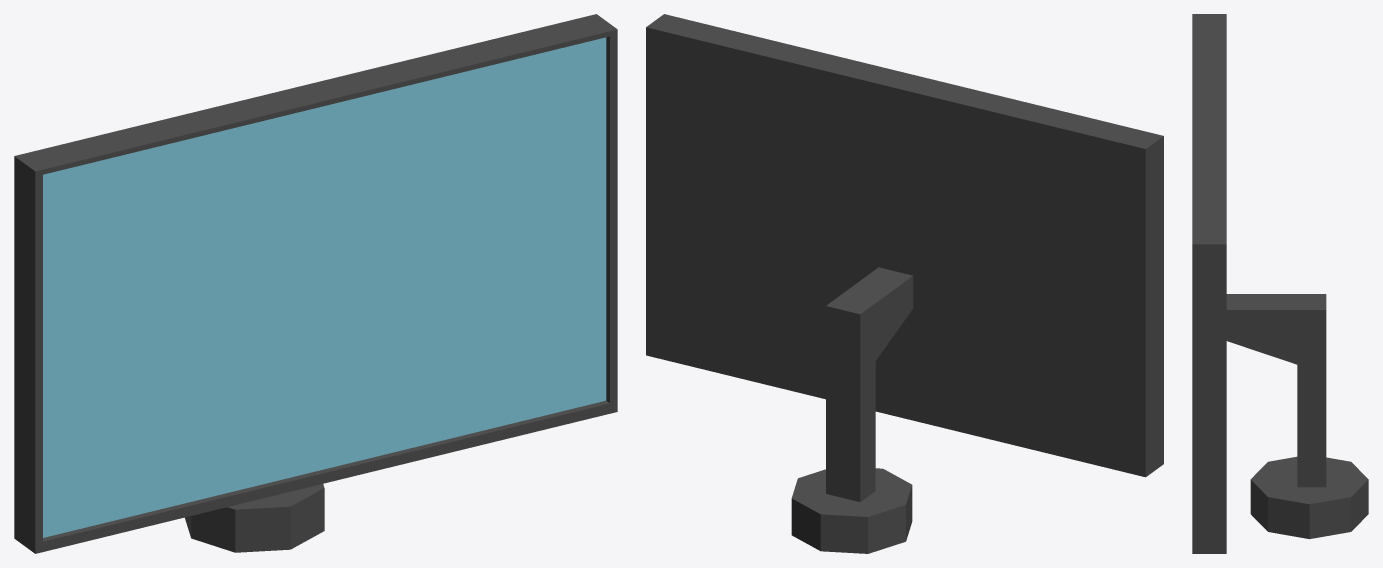
Rendered from PC Monitor.fbx.
3 views of the same model, side by side, from view 1: azimuth 30°, elevation 25°; view 2: azimuth 150°, elevation 25°; view 3: azimuth 270°, elevation 25° (orthographic). The views are drawn at different scales.
Parts seen in each view (by area): view 1: Monitor; view 2: Monitor; view 3: Monitor.
Boxes of the visible parts, x1,y1,x2,y2 form: Monitor: (14, 14, 617, 553); Monitor: (646, 14, 1163, 553); Monitor: (1192, 14, 1368, 553).
Size of the model in its own units: 9.24 by 7.21 by 2.99.
